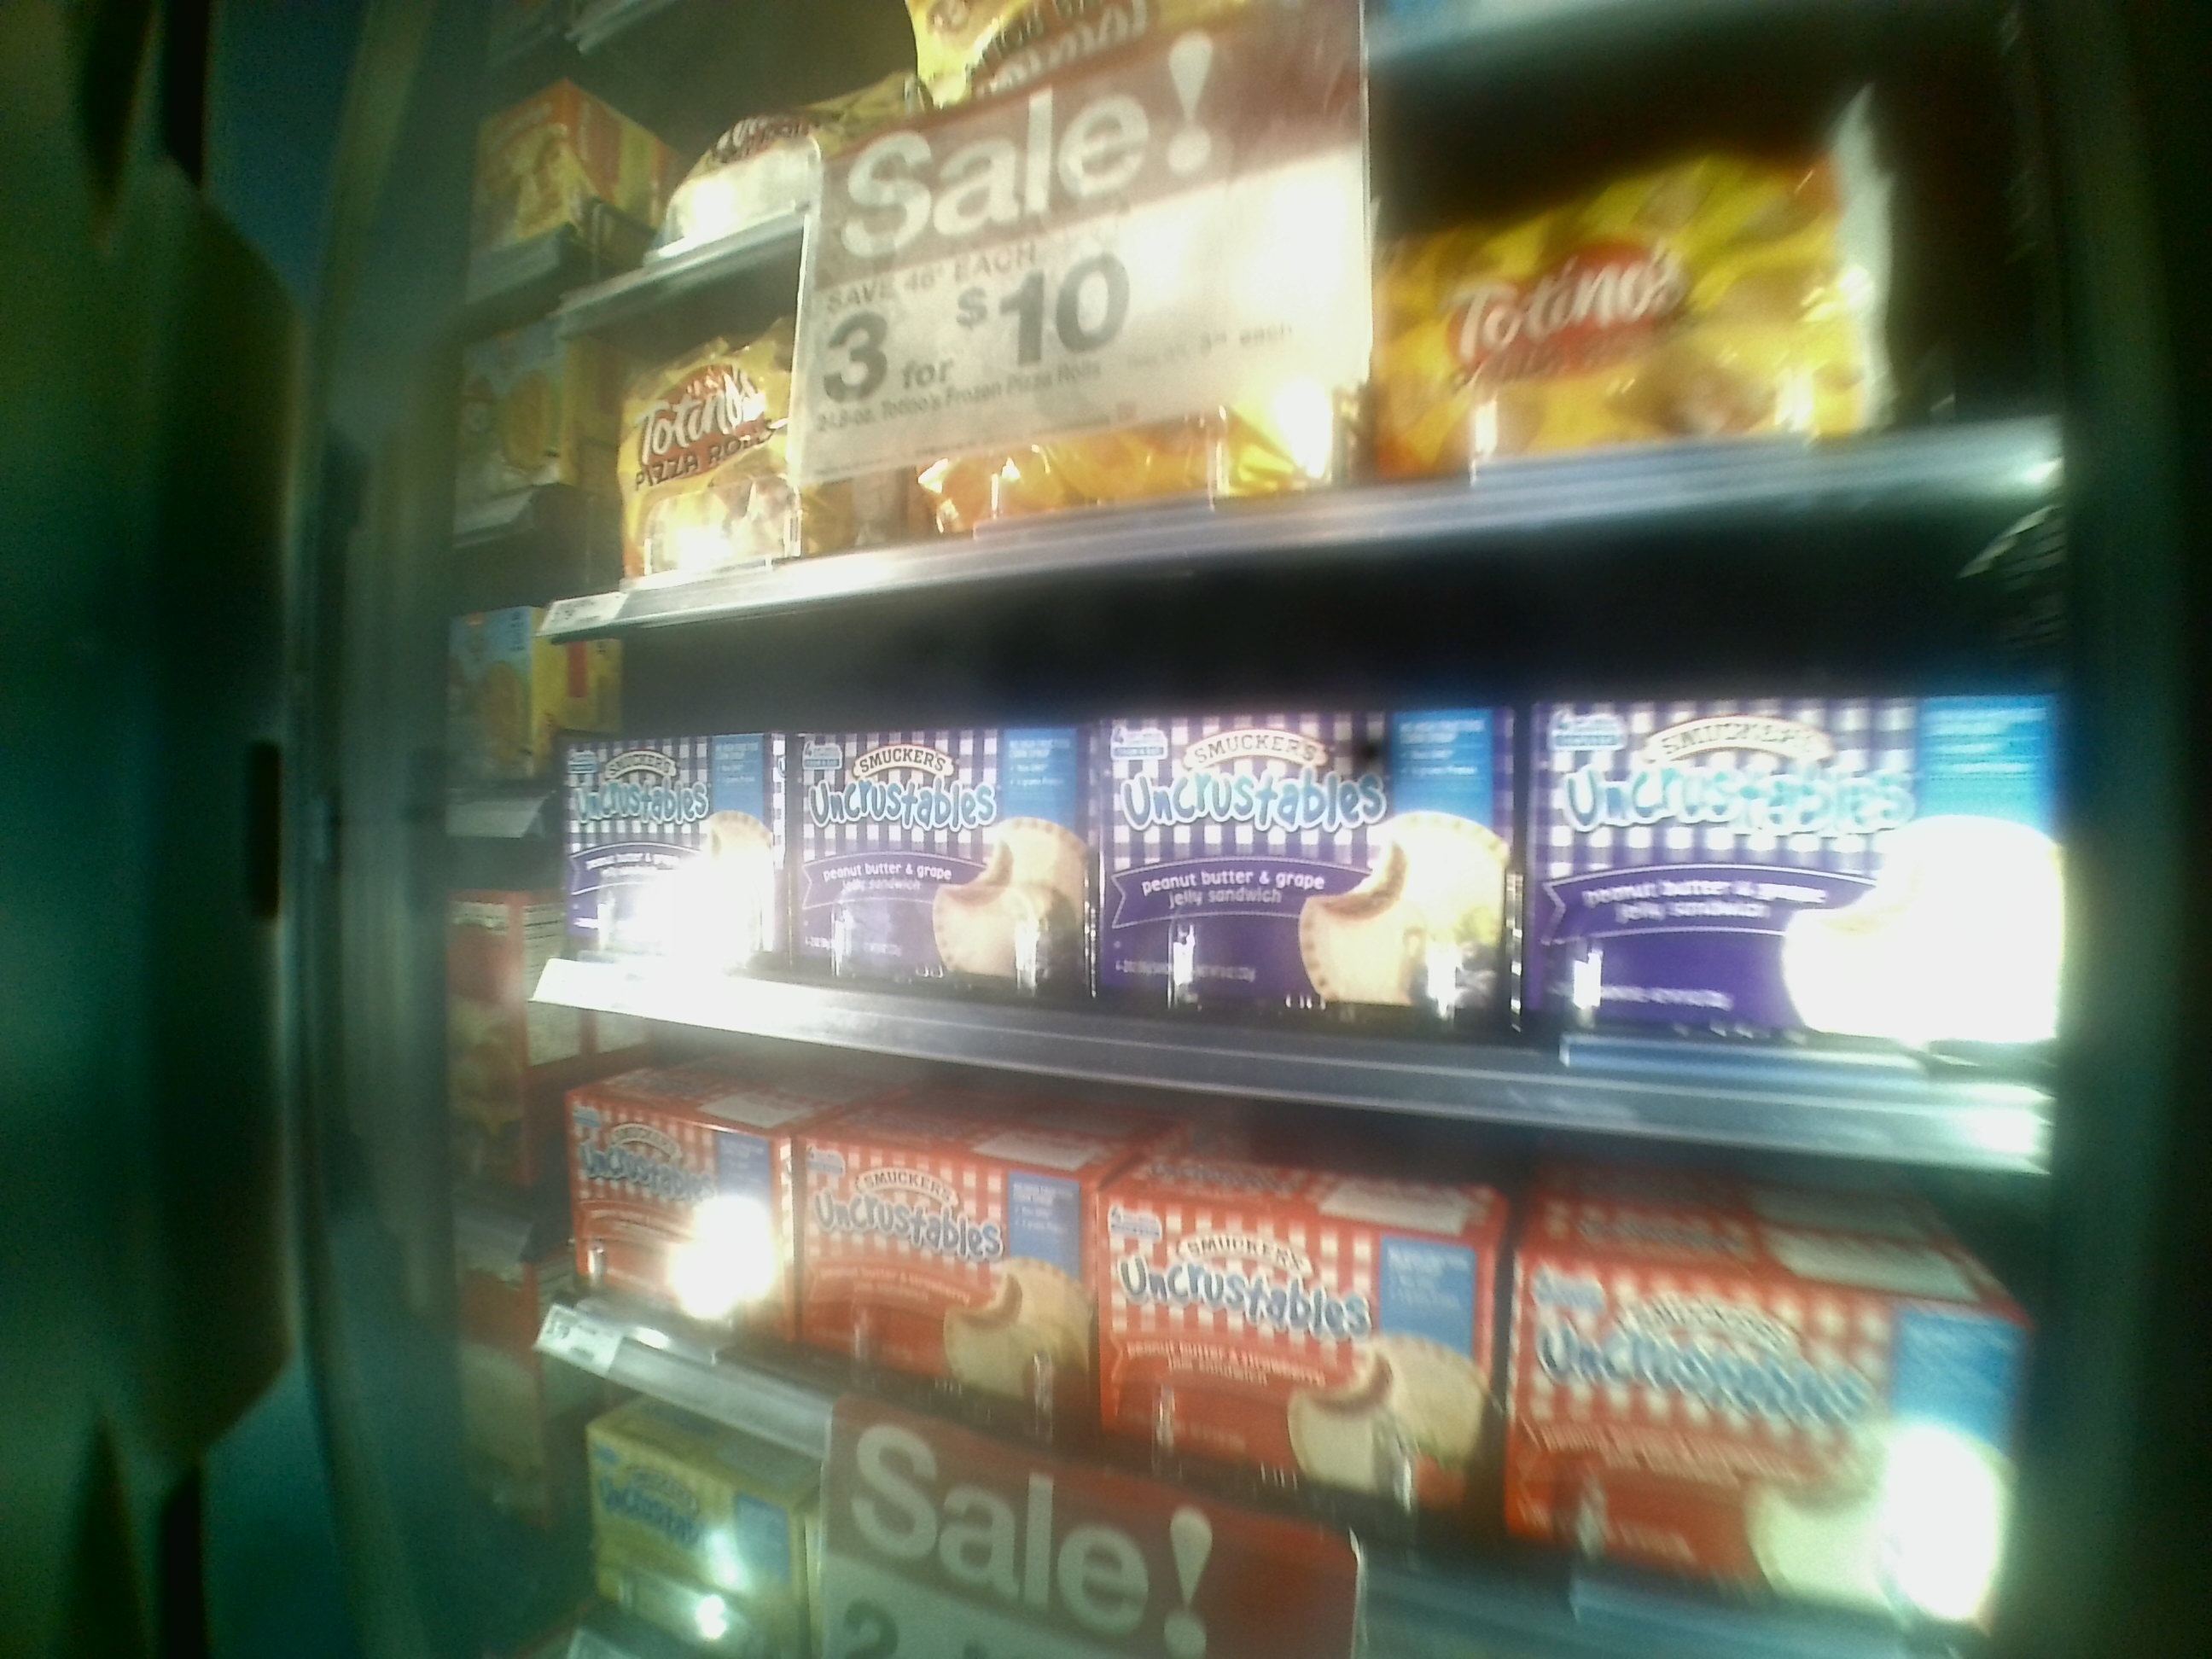shelf: (552, 589, 2052, 1175), (557, 249, 2043, 584)
